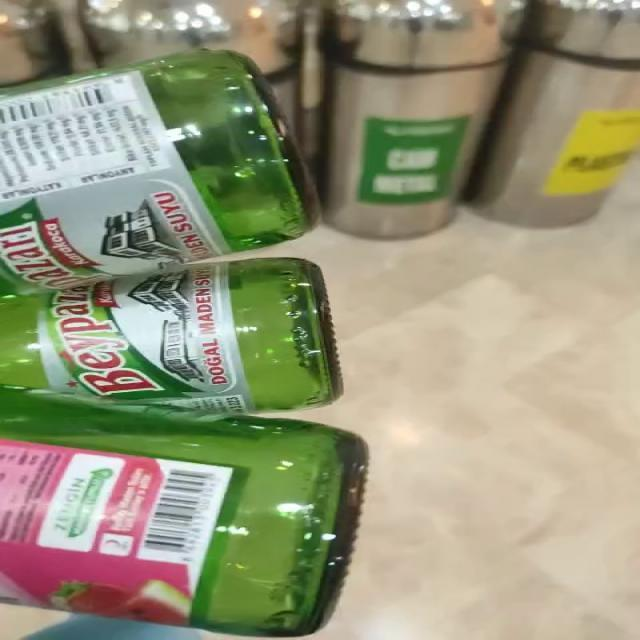Glass: (0, 49, 368, 638)
